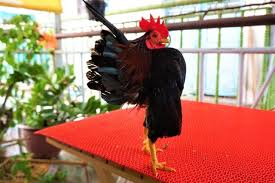Gà/Chicken: (66, 3, 217, 183)
